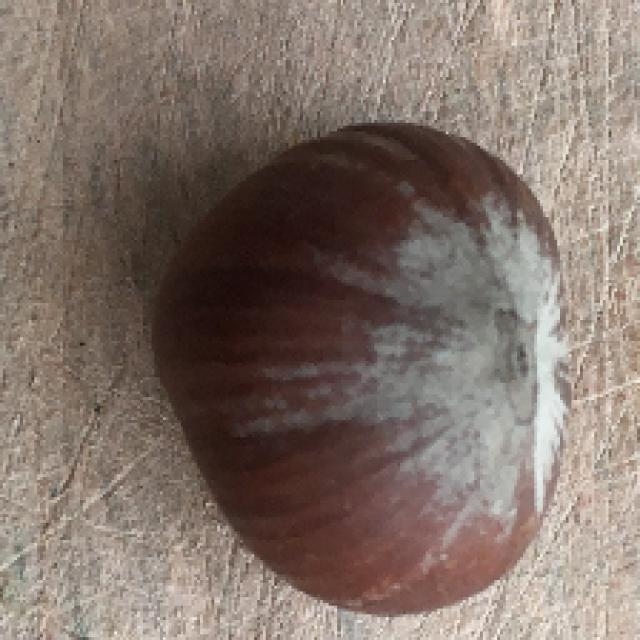damagedHazelnut: (160, 117, 576, 619)
